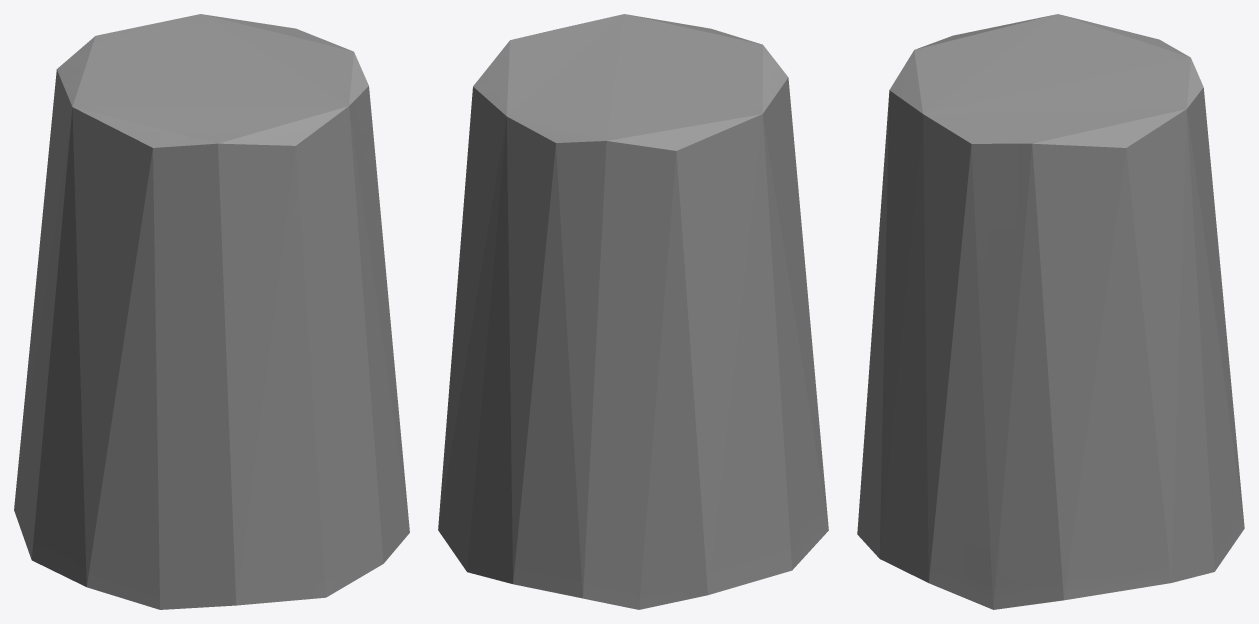
The model's file is metal1_1.dae.
3 renders of one model, left to right at view 1: azimuth 30°, elevation 25°; view 2: azimuth 150°, elevation 25°; view 3: azimuth 270°, elevation 25°, orthographic.
Parts seen in each view (by area): view 1: node; view 2: node; view 3: node.
Part boxes in pixels (x1,y1,x2,y2): node: (14,14,409,609); node: (438,14,828,609); node: (857,14,1244,609).
Size of the model in its own units: 0.1386 by 0.1778 by 0.1378.
1 material, 1 textured.
